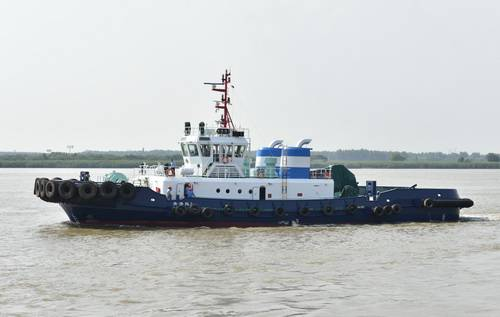otherboat: (26, 70, 481, 232)
